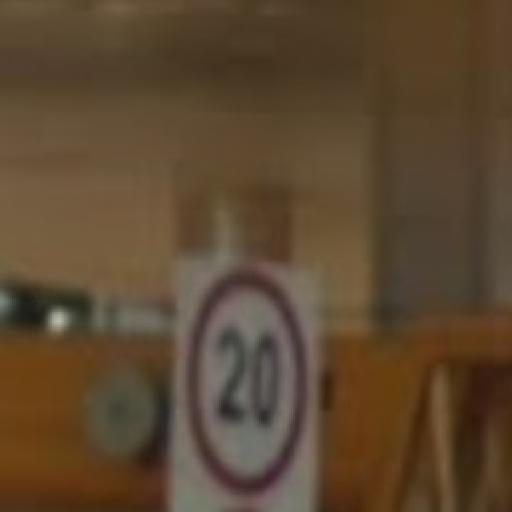traffic_sign: (188, 270, 308, 494)
